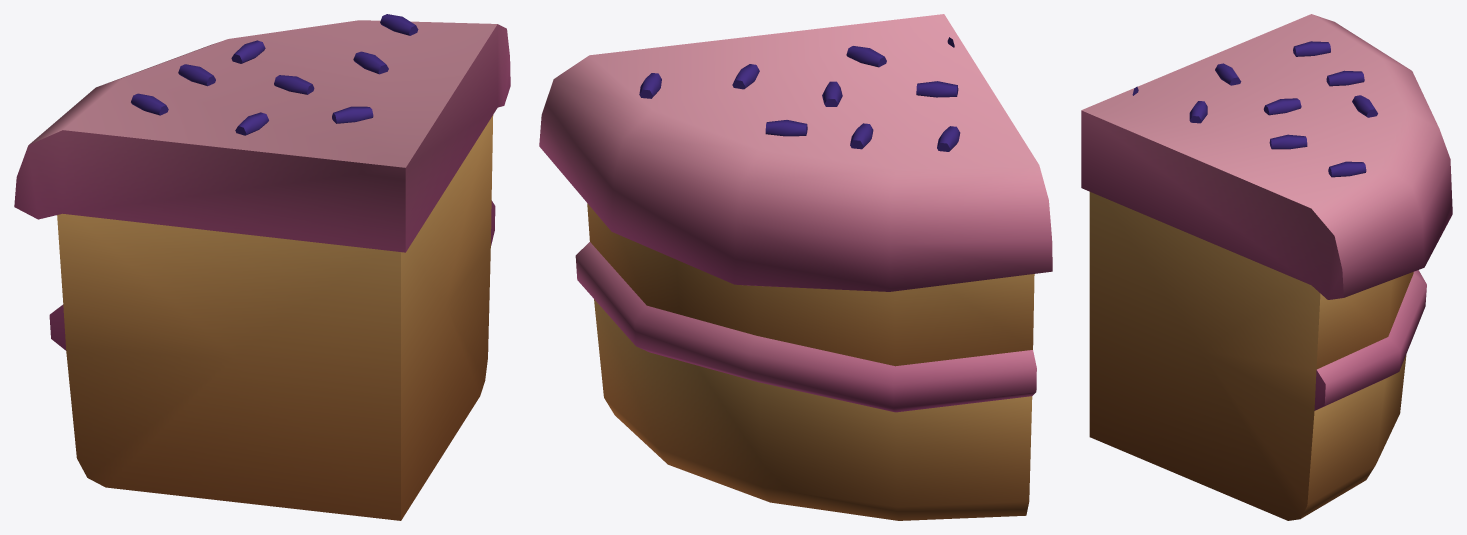
File: Cake_Slice_03.glb
The picture shows the model from 3 angles, left to right: view 1: azimuth 30°, elevation 25°; view 2: azimuth 150°, elevation 25°; view 3: azimuth 270°, elevation 25°; orthographic projection. The views are drawn at different scales.
Parts seen in each view (by area): view 1: Cake_Slice_03; view 2: Cake_Slice_03; view 3: Cake_Slice_03.
Boxes of the visible parts, x1,y1,x2,y2 form: Cake_Slice_03: (14,14,510,520); Cake_Slice_03: (539,14,1052,520); Cake_Slice_03: (1081,14,1452,520).
Size of the model in its own units: 0.5301 by 0.3736 by 0.3748.
1 material, 1 textured.
